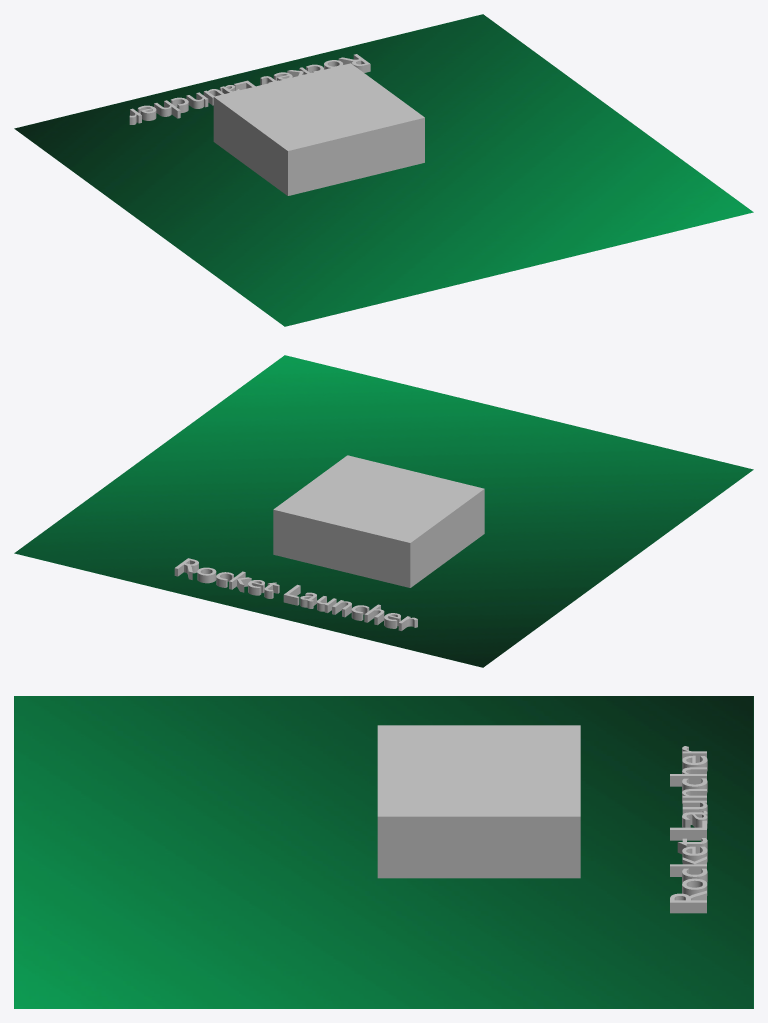
Rendered from platform2.obj.
The picture shows the model from 3 angles, top to bottom: view 1: azimuth 30°, elevation 25°; view 2: azimuth 150°, elevation 25°; view 3: azimuth 270°, elevation 25°; orthographic projection. The views are drawn at different scales.
Visible parts, largest first — view 1: Plane, Cube.001, Text; view 2: Plane, Cube.001, Text; view 3: Plane, Cube.001, Text.
Boxes of the visible parts, box(x1,y1,x2,y2) form: Plane: box(14, 14, 753, 326); Cube.001: box(213, 63, 424, 195); Text: box(129, 54, 370, 124); Plane: box(14, 355, 753, 667); Cube.001: box(273, 455, 484, 587); Text: box(174, 558, 417, 630); Plane: box(14, 696, 753, 1008); Cube.001: box(377, 725, 580, 878); Text: box(670, 746, 707, 913).
Size of the model in its own units: 13.59 by 2 by 13.59.
